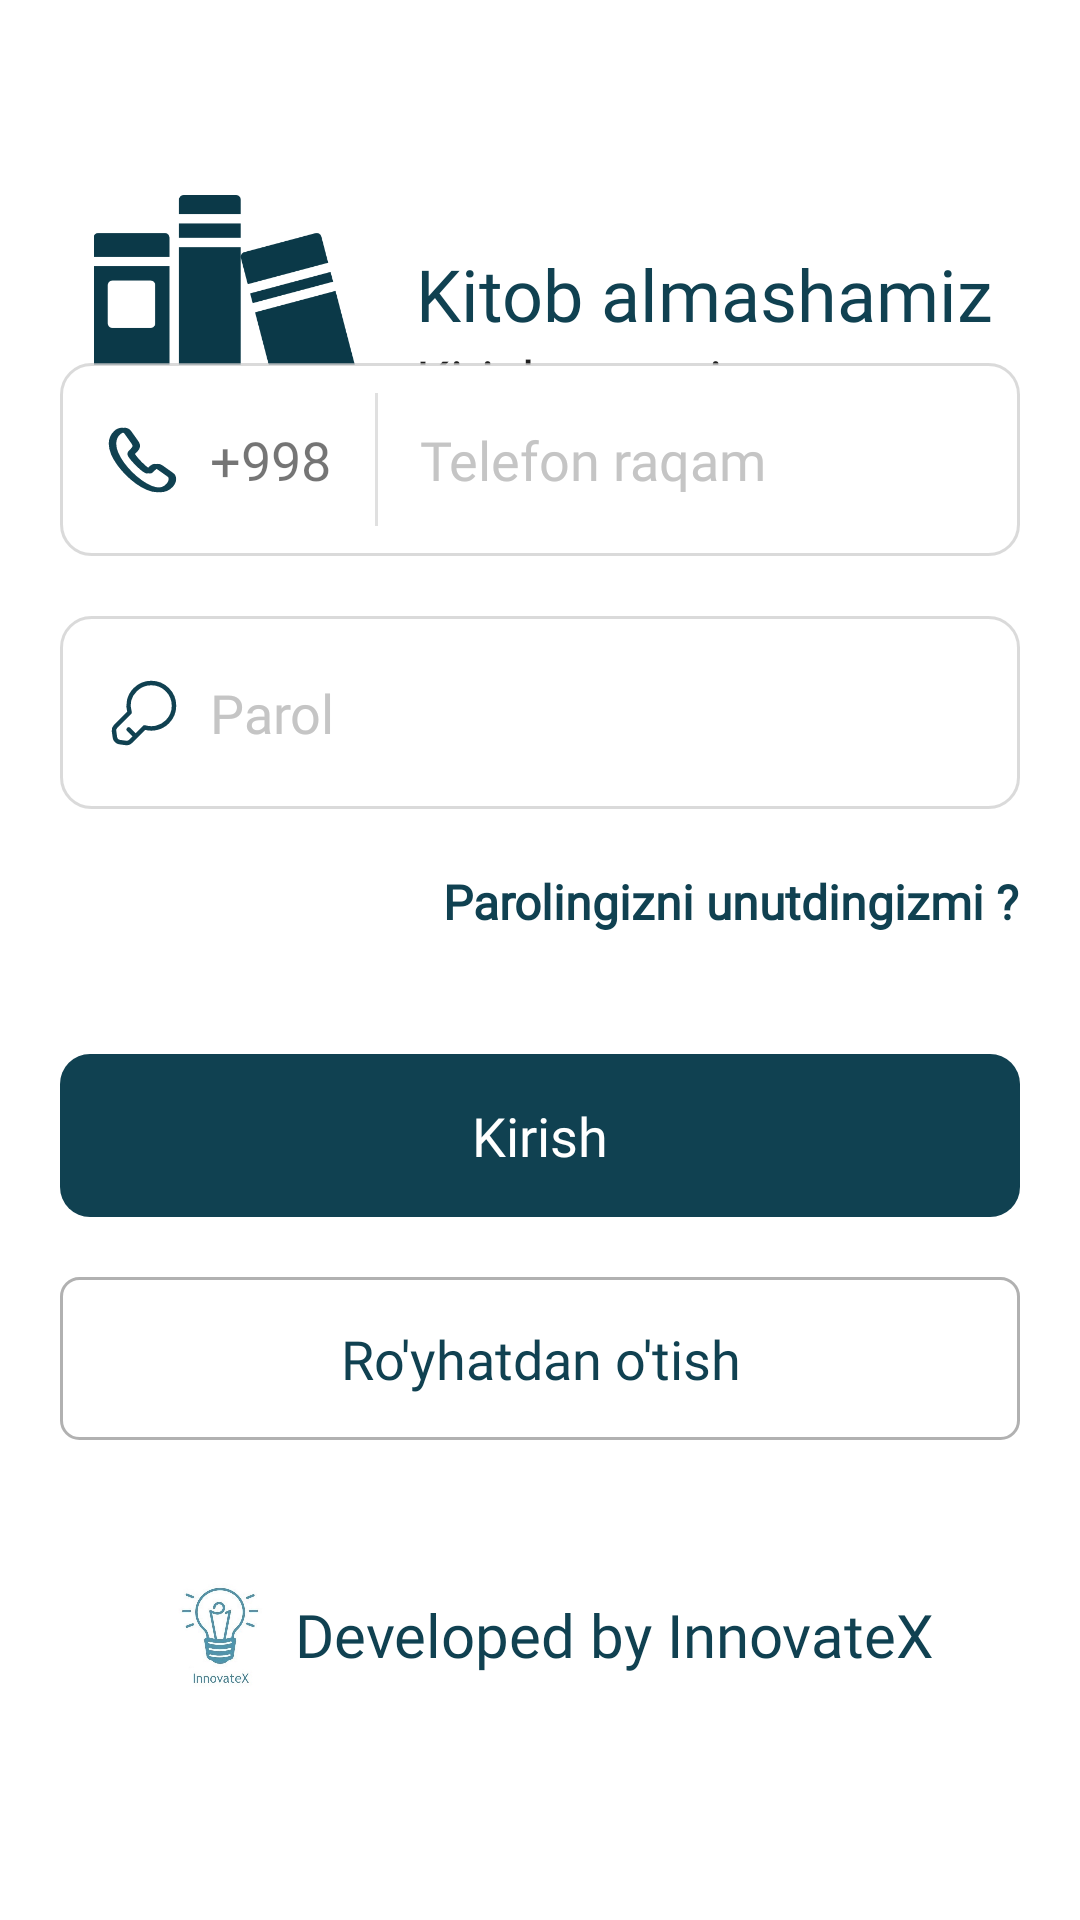

Icons on this 1080px×1920px Android screen, each with its box as region(x1, y1, x2, y2):
key: region(111, 680, 177, 746)
